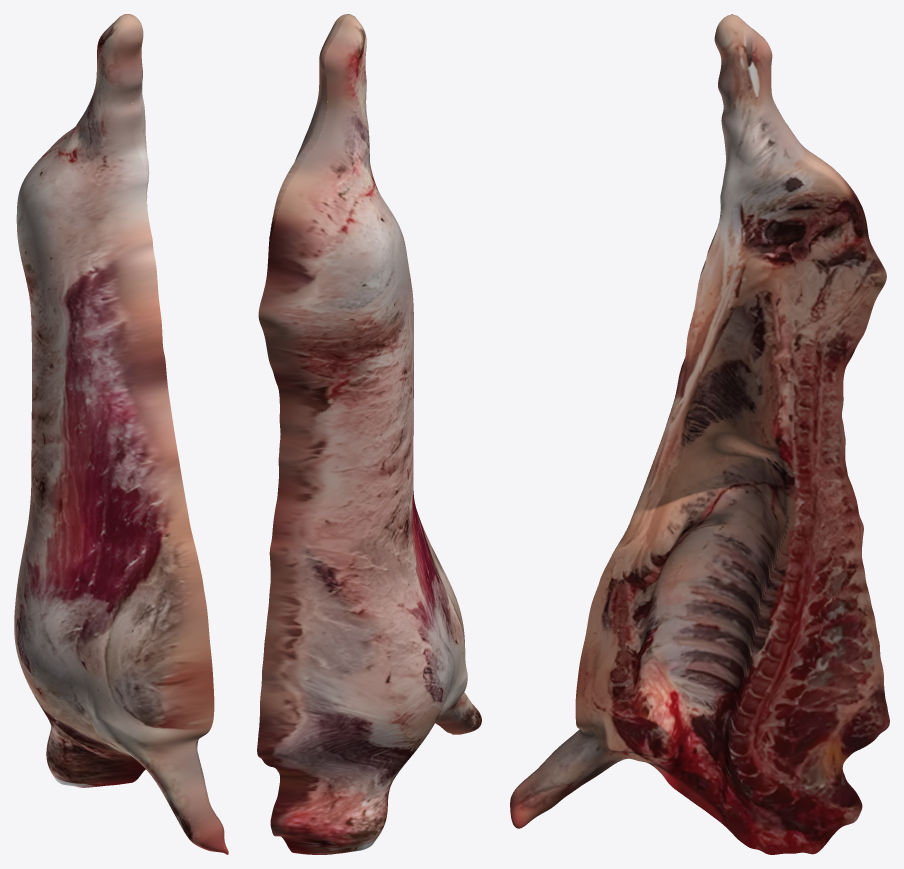
The model's file is demi_carcasse_boeuf_v23.glb.
The picture shows the model from 3 angles, left to right: view 1: azimuth 30°, elevation 25°; view 2: azimuth 150°, elevation 25°; view 3: azimuth 270°, elevation 25°; orthographic projection. The views are drawn at different scales.
Parts seen in each view (by area): view 1: face_exterieure, face_de_fente; view 2: face_exterieure, face_de_fente; view 3: face_de_fente, face_exterieure.
Part boxes in pixels (left/top/right/bottom): face_exterieure: left=14, top=14, right=228, bottom=854; face_de_fente: left=126, top=14, right=228, bottom=853; face_exterieure: left=257, top=14, right=481, bottom=854; face_de_fente: left=268, top=14, right=452, bottom=734; face_de_fente: left=510, top=15, right=889, bottom=854; face_exterieure: left=513, top=14, right=882, bottom=792.
Size of the model in its own units: 0.4163 by 2.5 by 1.03.
Materials: 2 (2 with a texture image).
